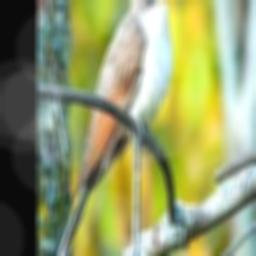Cuckoo: (45, 0, 174, 256)
